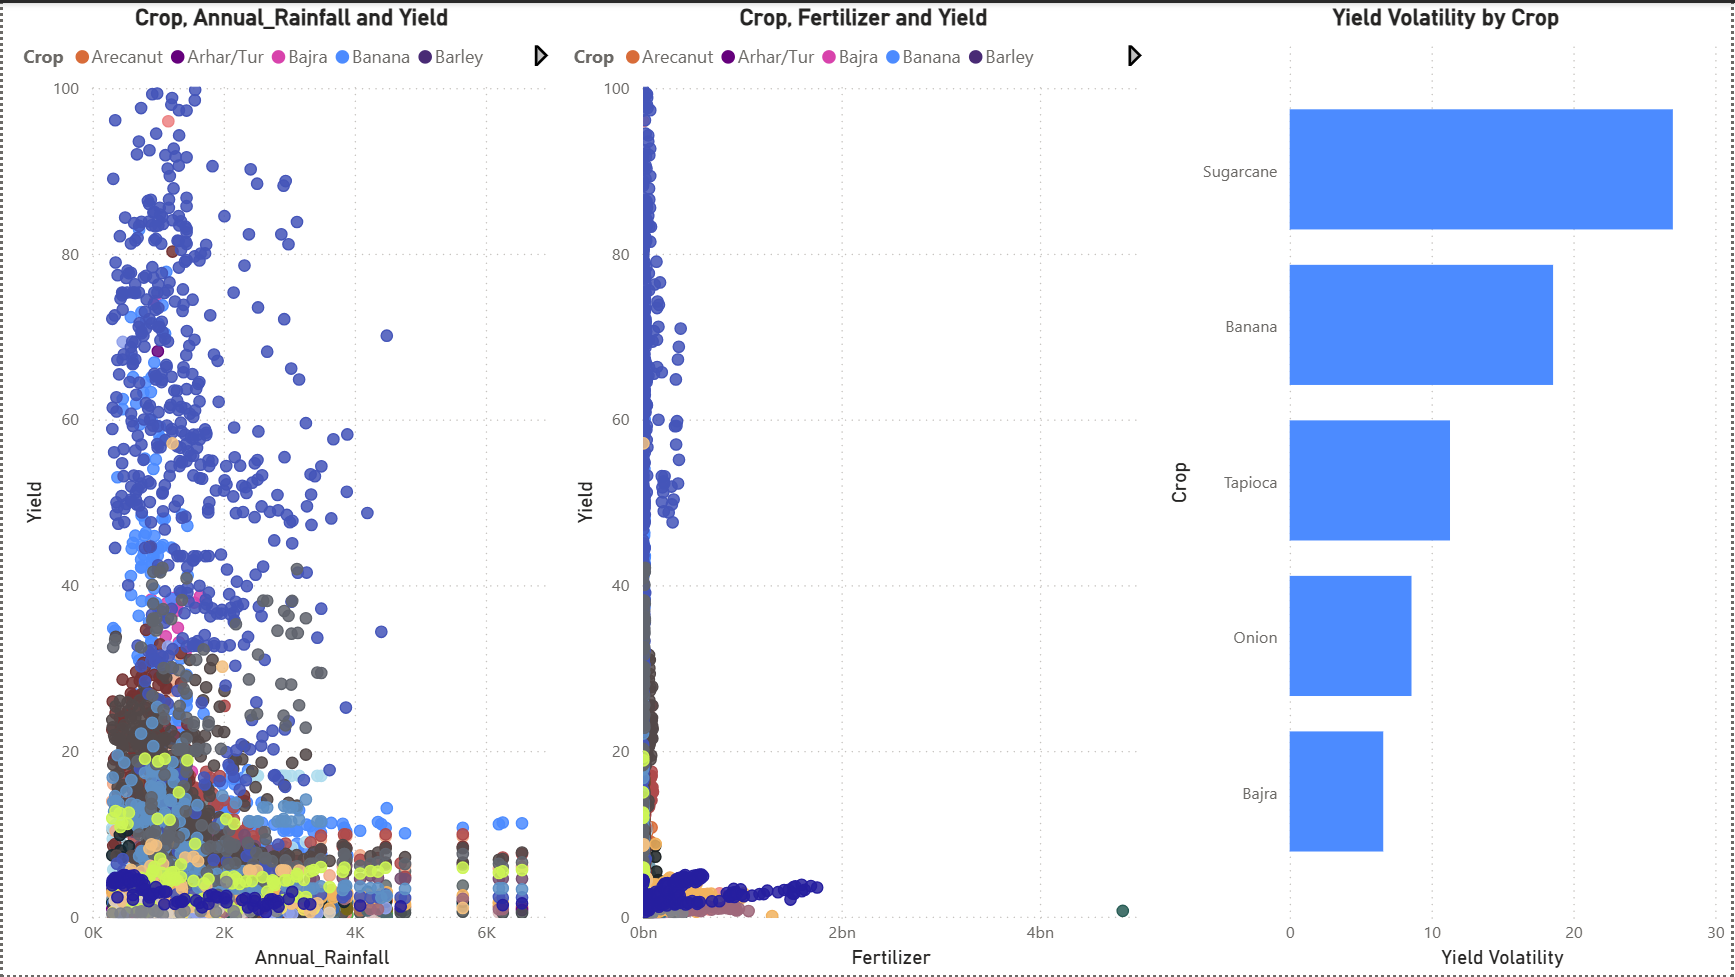

The page's visual inventory and layout, read from the dashboard file:
{"tool":"powerbi","page":{"name":"Climate & Input Analysis","canvas":[1280,720],"ordinal":1},"visuals":[{"type":"scatterChart","fields":{"X":["clean_agriculture_data.Annual_Rainfall"],"Y":["clean_agriculture_data.Yield"],"Series":["clean_agriculture_data.Crop"]},"box":[10.1,0,407.8,719.5],"z":0},{"type":"scatterChart","fields":{"X":["clean_agriculture_data.Fertilizer"],"Y":["clean_agriculture_data.Yield"],"Series":["clean_agriculture_data.Crop"]},"box":[417.9,0,439.4,719.5],"z":1000},{"type":"barChart","fields":{"Category":["clean_agriculture_data.Crop"],"Y":["clean_agriculture_data.Yield Volatility"]},"box":[857.3,0,422.2,719.5],"z":2000}]}

Visuals, with their boxes in screenshot pixels (x1, y1, x2, y2), scaled from the page's 1280x720 canvas onto the 1735x977 screenshot:
scatterChart - clean_agriculture_data.Annual_Rainfall x clean_agriculture_data.Yield: <bbox>14, 0, 566, 976</bbox>
scatterChart - clean_agriculture_data.Fertilizer x clean_agriculture_data.Yield: <bbox>566, 0, 1162, 976</bbox>
barChart - clean_agriculture_data.Crop x clean_agriculture_data.Yield Volatility: <bbox>1162, 0, 1734, 976</bbox>
